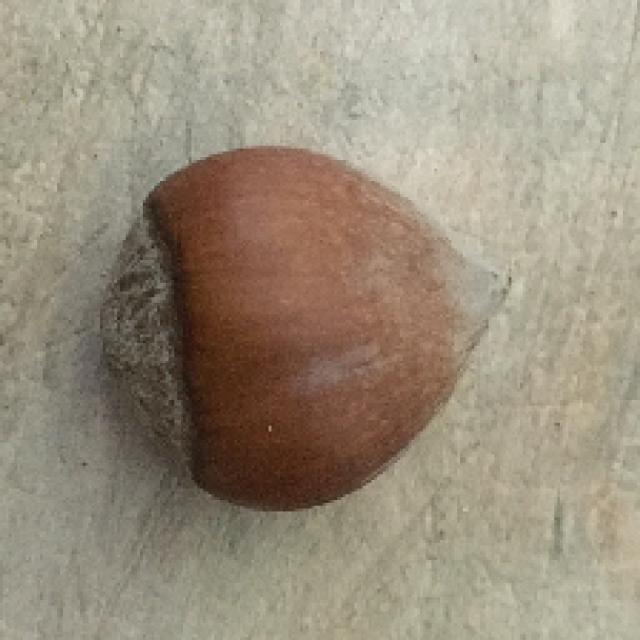QualityHazelnut: (97, 144, 516, 516)
